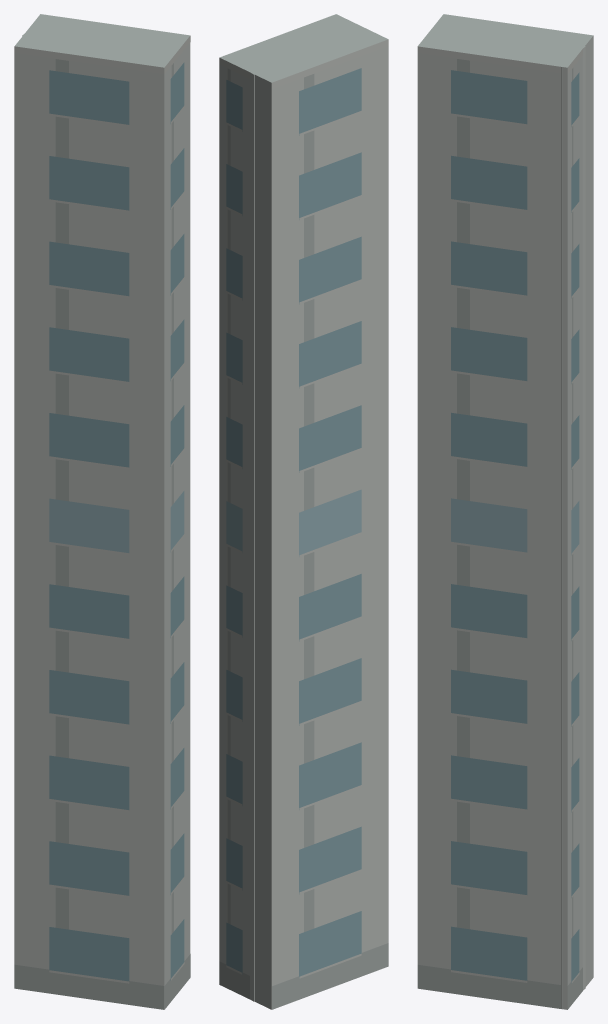
The model's file is survey-upis-32891417.glb.
3 renders of one model, left to right at view 1: azimuth 90°, elevation 25°; view 2: azimuth 150°, elevation 25°; view 3: azimuth 270°, elevation 25°, orthographic.
Parts seen in each view (by area): view 1: survey-upis-32891417.tmp; view 2: survey-upis-32891417.tmp; view 3: survey-upis-32891417.tmp.
Part boxes in pixels (x1=…): survey-upis-32891417.tmp: x1=14, y1=14, x2=190, y2=1009; survey-upis-32891417.tmp: x1=219, y1=14, x2=388, y2=1009; survey-upis-32891417.tmp: x1=417, y1=14, x2=593, y2=1009.
Size of the model in its own units: 4.11 by 33.55 by 5.69.
